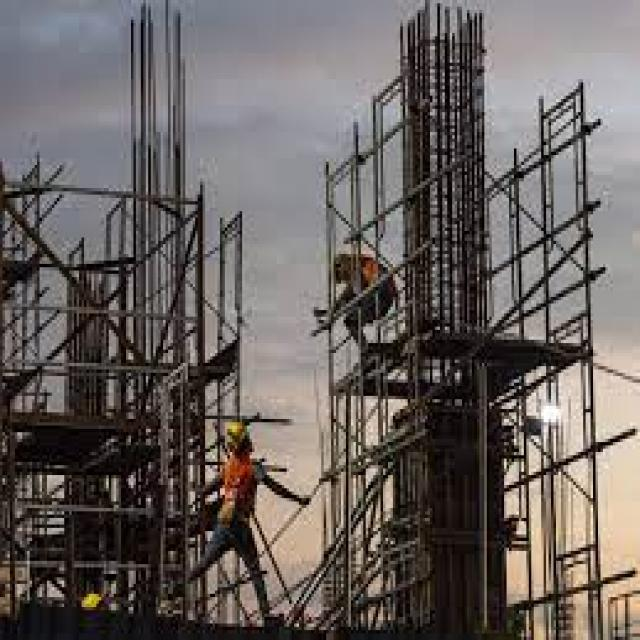Reflective-Jacket: (212, 448, 262, 534)
Safety-Helmet: (220, 416, 257, 452)
